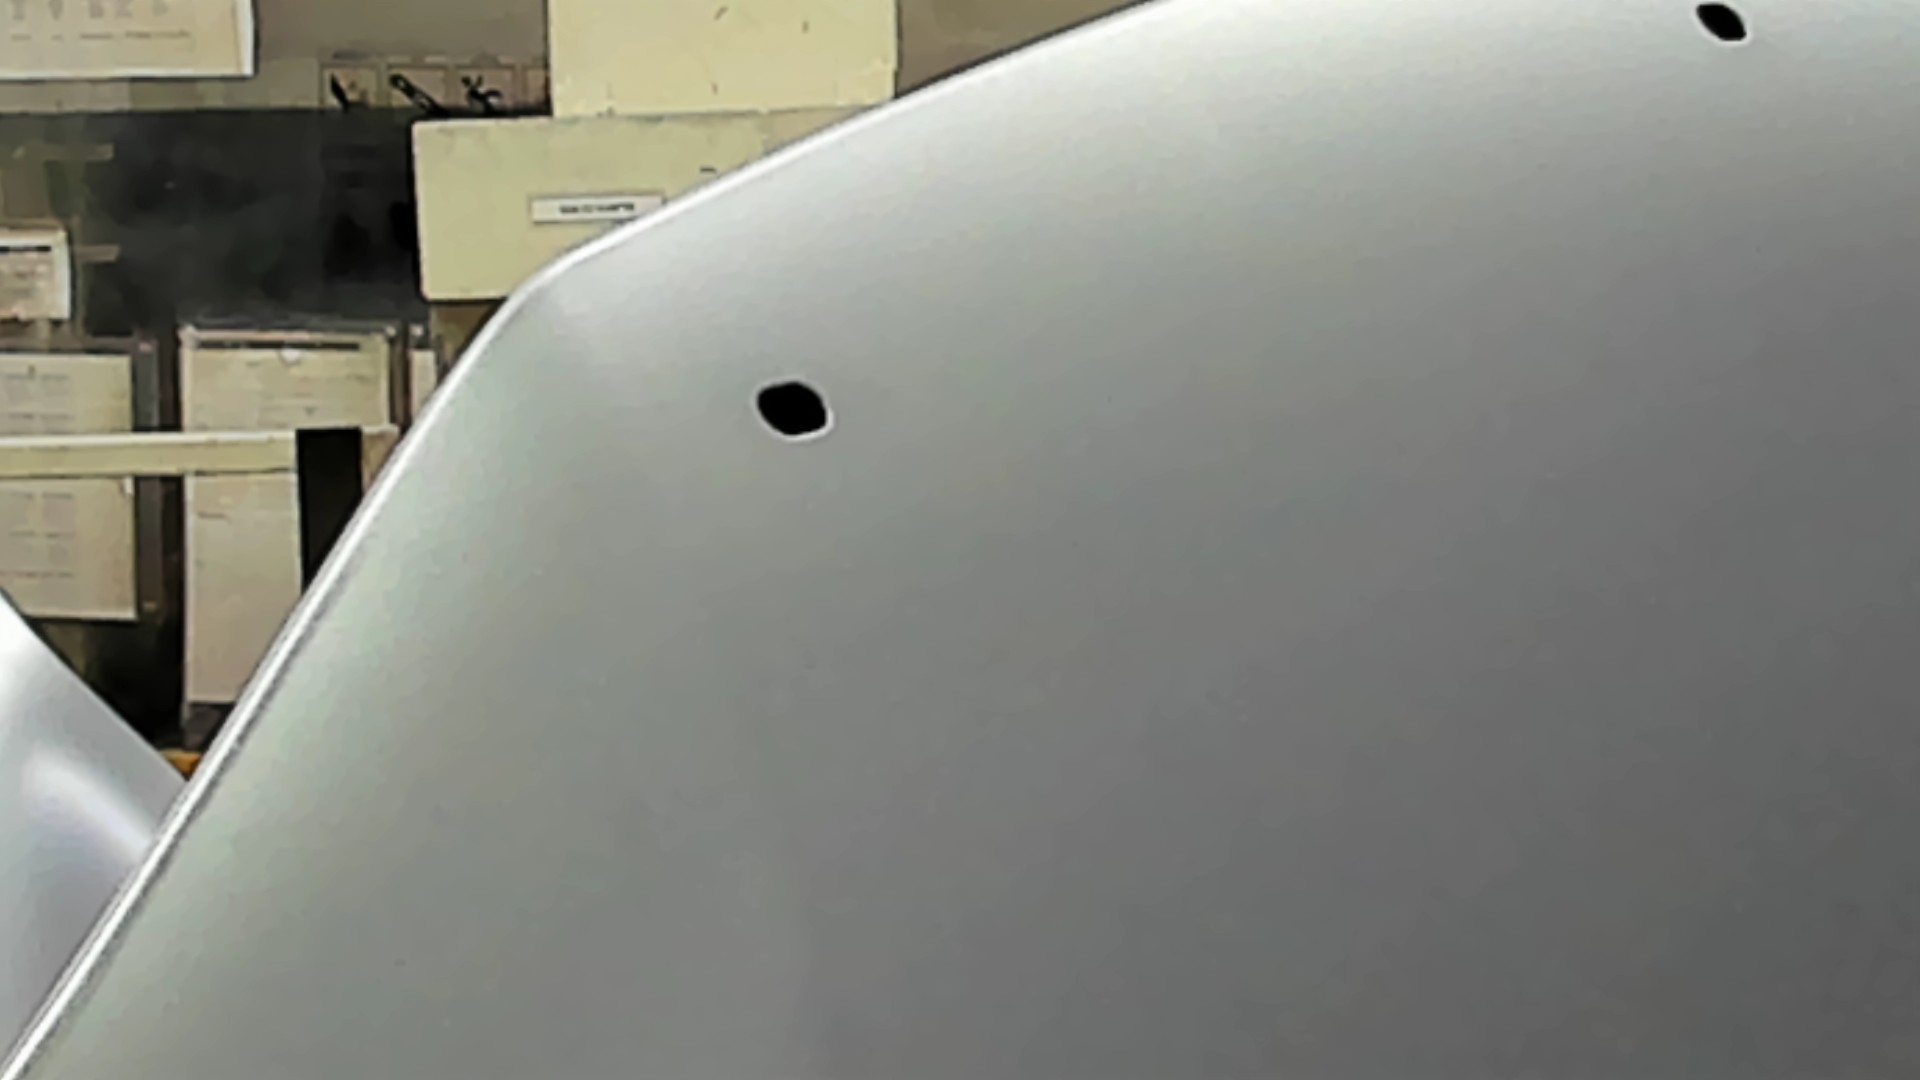amorfo: (752, 373, 837, 440), (1689, 1, 1754, 49)
capo: (915, 135, 1920, 1080)
